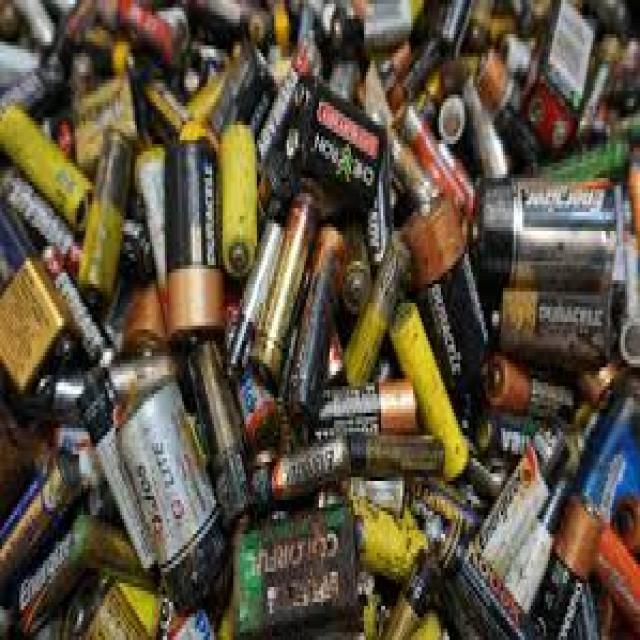battery: (119, 372, 236, 620), (448, 413, 570, 580), (470, 173, 620, 291), (0, 191, 80, 407), (402, 196, 490, 387), (235, 505, 358, 640), (284, 68, 388, 216), (162, 139, 226, 347), (251, 195, 316, 394), (288, 223, 348, 421), (533, 496, 608, 640), (492, 284, 614, 370), (78, 124, 136, 302), (308, 381, 422, 444), (222, 126, 256, 272)
